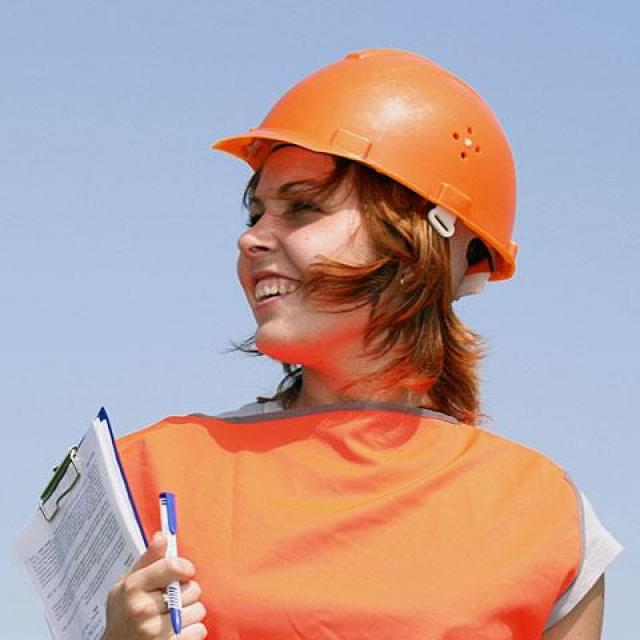Reflective-Jacket: (95, 409, 597, 639)
Safety-Helmet: (212, 43, 532, 249)
